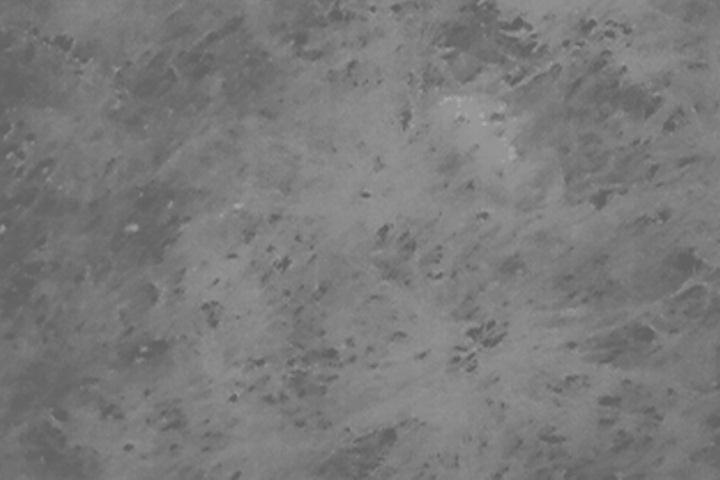landmine: (429, 87, 532, 176)
